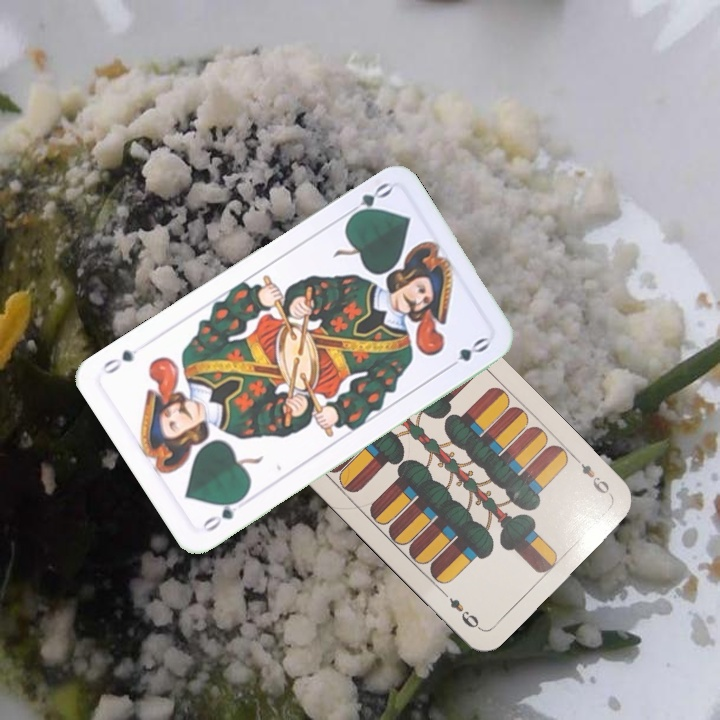E9: (569, 452, 613, 497)
GO: (340, 178, 395, 223), (199, 492, 247, 535)
